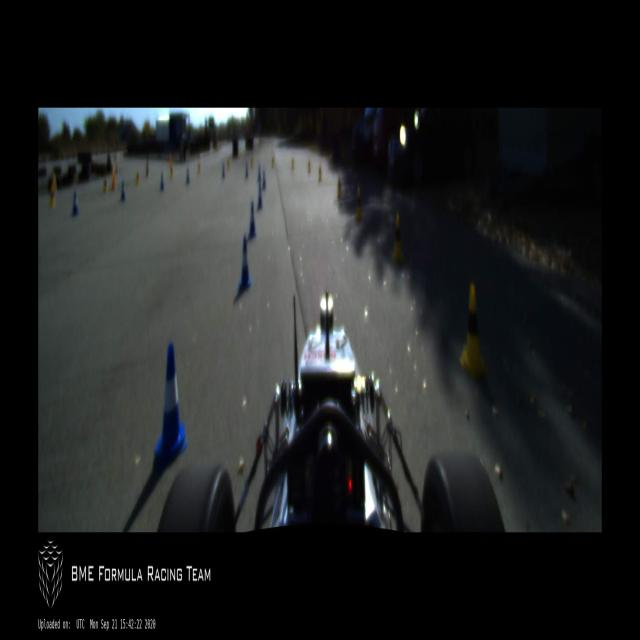blue_cone: (154, 342, 187, 470), (238, 236, 251, 289), (248, 202, 256, 238), (72, 190, 79, 216), (257, 182, 263, 209), (120, 178, 126, 202), (262, 170, 266, 190)
yellow_cone: (460, 282, 488, 380), (392, 212, 404, 262), (355, 187, 363, 221), (49, 185, 55, 207), (337, 174, 342, 198), (103, 175, 108, 192), (318, 164, 322, 181), (136, 169, 139, 185), (308, 159, 311, 173)
